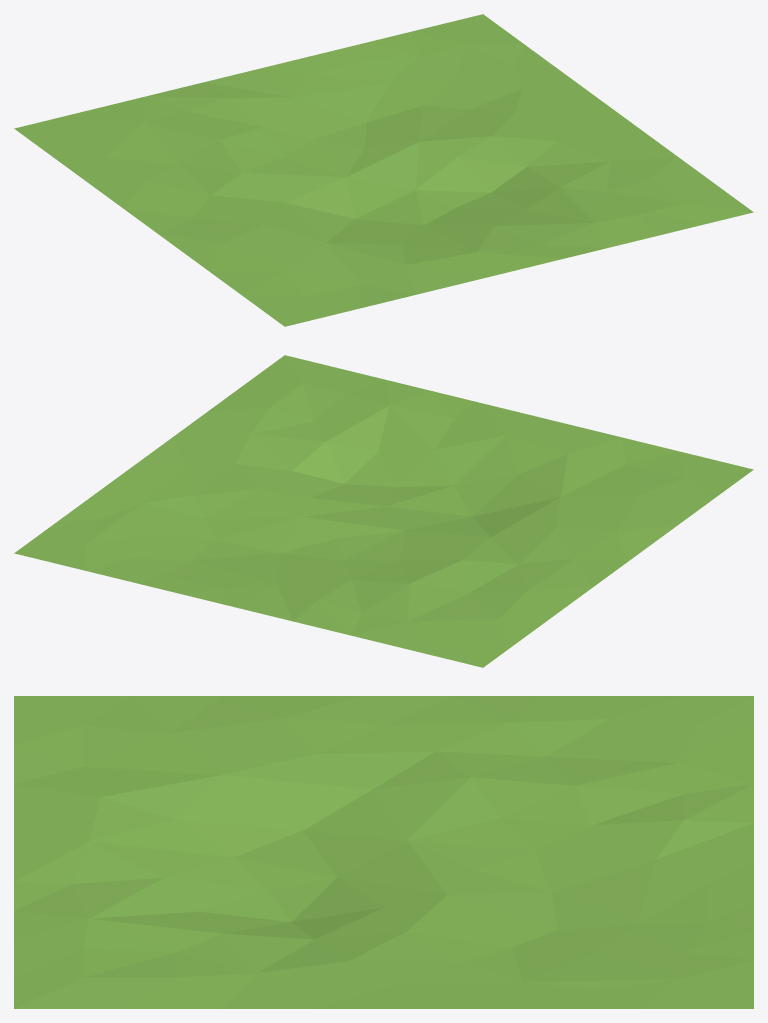
File: MT_Terrain_S_b_01_LOD.fbx
The picture shows the model from 3 angles, top to bottom: view 1: azimuth 30°, elevation 25°; view 2: azimuth 150°, elevation 25°; view 3: azimuth 270°, elevation 25°; orthographic projection. The views are drawn at different scales.
Parts seen in each view (by area): view 1: MT_Terrain_S_b_01_LOD0; view 2: MT_Terrain_S_b_01_LOD0; view 3: MT_Terrain_S_b_01_LOD0.
Boxes of the visible parts, <box> form: MT_Terrain_S_b_01_LOD0: <box>14,14,753,326</box>; MT_Terrain_S_b_01_LOD0: <box>14,355,753,667</box>; MT_Terrain_S_b_01_LOD0: <box>14,696,753,1008</box>.
Size of what is drawn, in the model's own units: 2500 by 88.75 by 2500.
